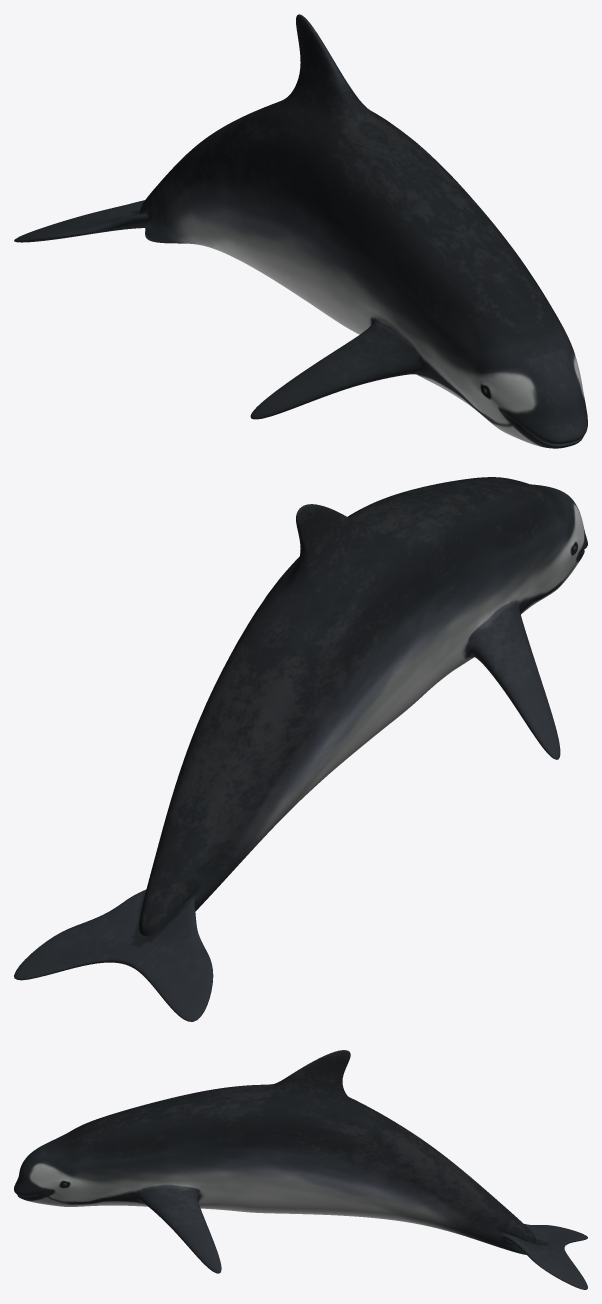
File: Vaquita.glb
3 renders of one model, top to bottom at view 1: azimuth 30°, elevation 25°; view 2: azimuth 150°, elevation 25°; view 3: azimuth 270°, elevation 25°, orthographic. The views are drawn at different scales.
Parts seen in each view (by area): view 1: Vaquita.001; view 2: Vaquita.001; view 3: Vaquita.001.
Boxes of the visible parts, bbox=[...] form: Vaquita.001: bbox=[14, 14, 587, 448]; Vaquita.001: bbox=[14, 477, 587, 1021]; Vaquita.001: bbox=[14, 1050, 587, 1289].
Size of the model in its own units: 1.84 by 1.99 by 4.87.
1 material, 1 textured.
